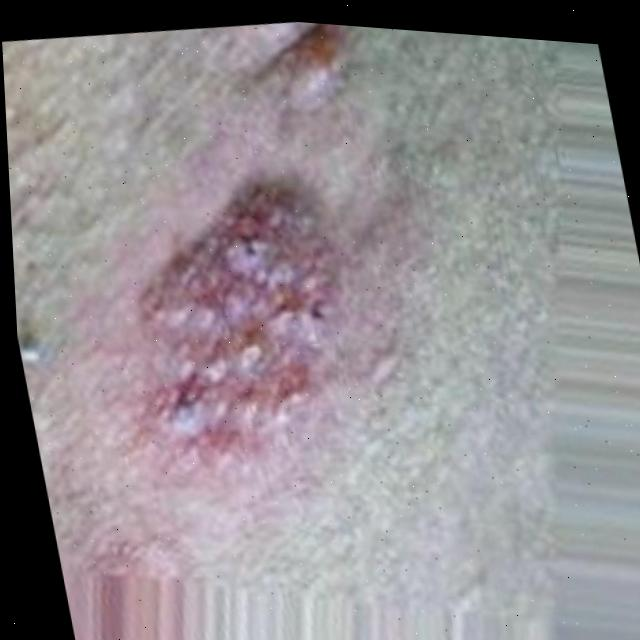Shingles: (107, 162, 378, 471)
